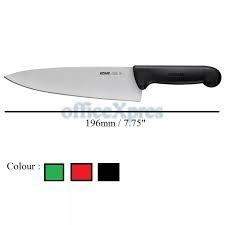knives: (0, 45, 221, 110)
